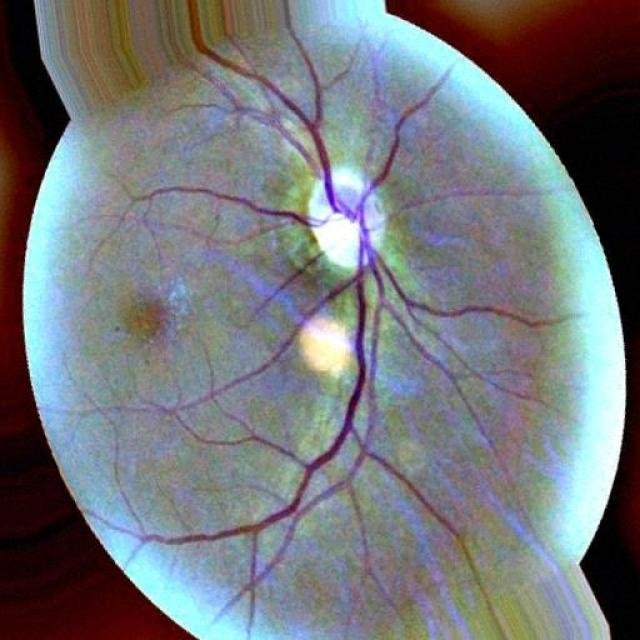Macula: (121, 279, 191, 359)
Nerves: (131, 224, 374, 553), (205, 51, 337, 211), (236, 246, 327, 338), (134, 182, 320, 226)
Optic Disk: (298, 163, 395, 273)
